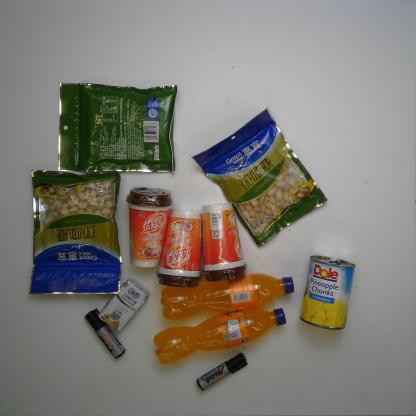Canned Food: (300, 255, 356, 330)
Dried Fruit: (190, 107, 328, 247), (28, 169, 122, 296), (56, 82, 178, 174)
Drink: (153, 305, 287, 366), (159, 272, 294, 321)
Instant Drink: (124, 185, 174, 268), (200, 201, 247, 281), (157, 209, 202, 288)
Milk: (98, 277, 150, 332)
Stationery: (84, 308, 126, 359), (196, 352, 248, 392)
